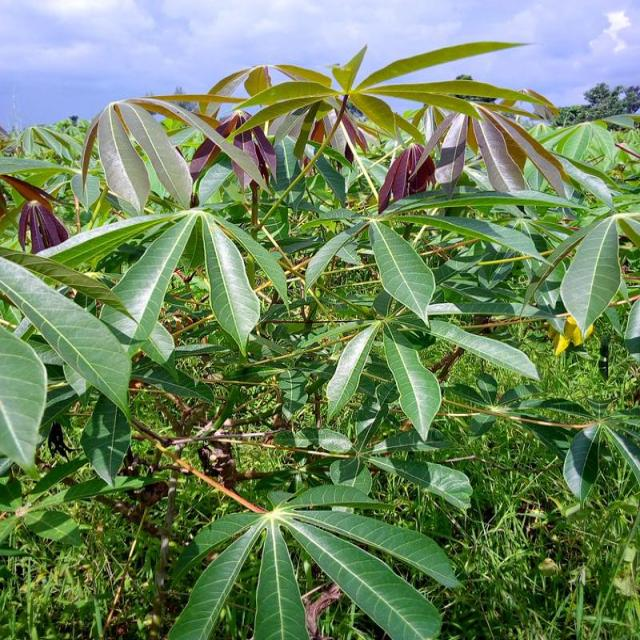cassava leaf: (0, 38, 638, 638), (199, 210, 261, 357), (558, 214, 621, 342), (367, 218, 435, 328)
